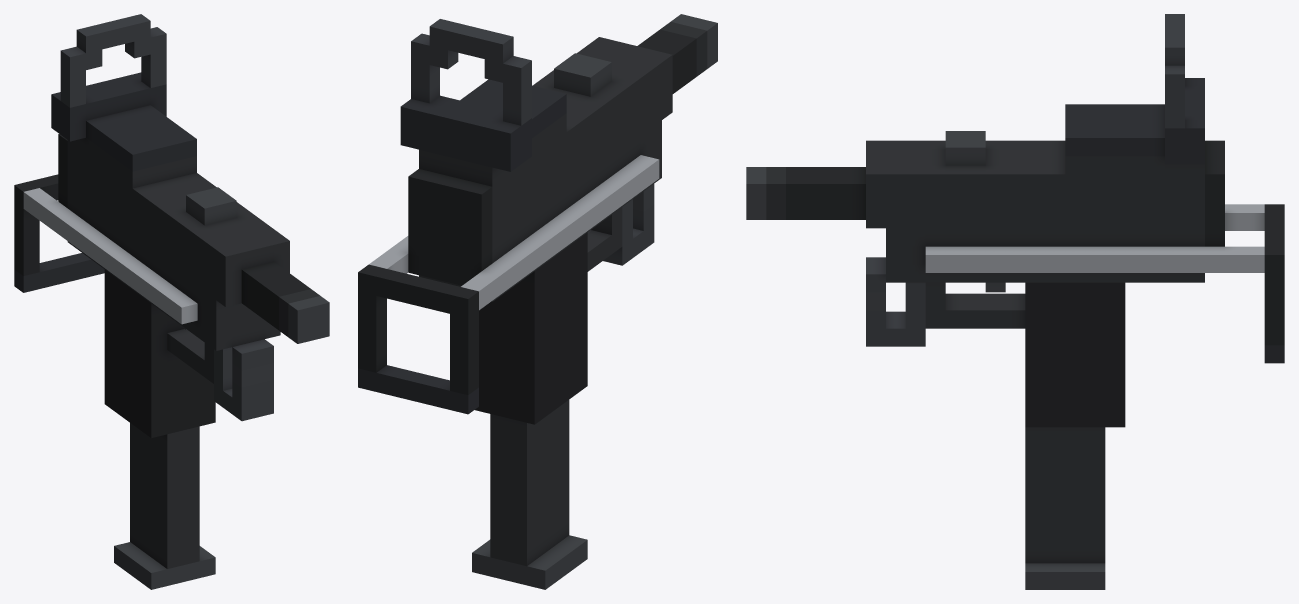
Rendered from smg.glb.
The picture shows the model from 3 angles, left to right: view 1: azimuth 30°, elevation 25°; view 2: azimuth 150°, elevation 25°; view 3: azimuth 270°, elevation 25°; orthographic projection. The views are drawn at different scales.
Parts seen in each view (by area): view 1: smg_body; view 2: smg_body; view 3: smg_body.
Boxes of the visible parts, x1=… form: smg_body: x1=14, y1=14, x2=329, y2=589; smg_body: x1=358, y1=14, x2=717, y2=589; smg_body: x1=746, y1=14, x2=1284, y2=589.
Bounding box in the file's own units: 0.2344 × 1.17 × 1.05.
Materials: 1 (1 with a texture image).
